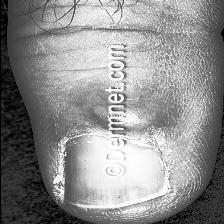Toxin: (100, 95, 162, 133)
